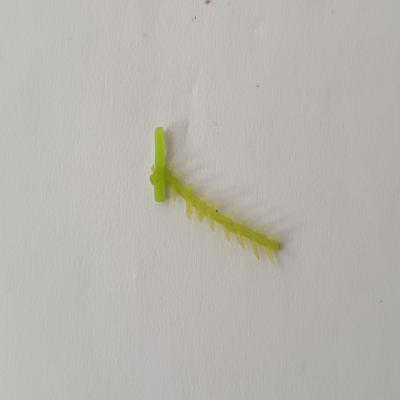plastic: (143, 121, 298, 271)
